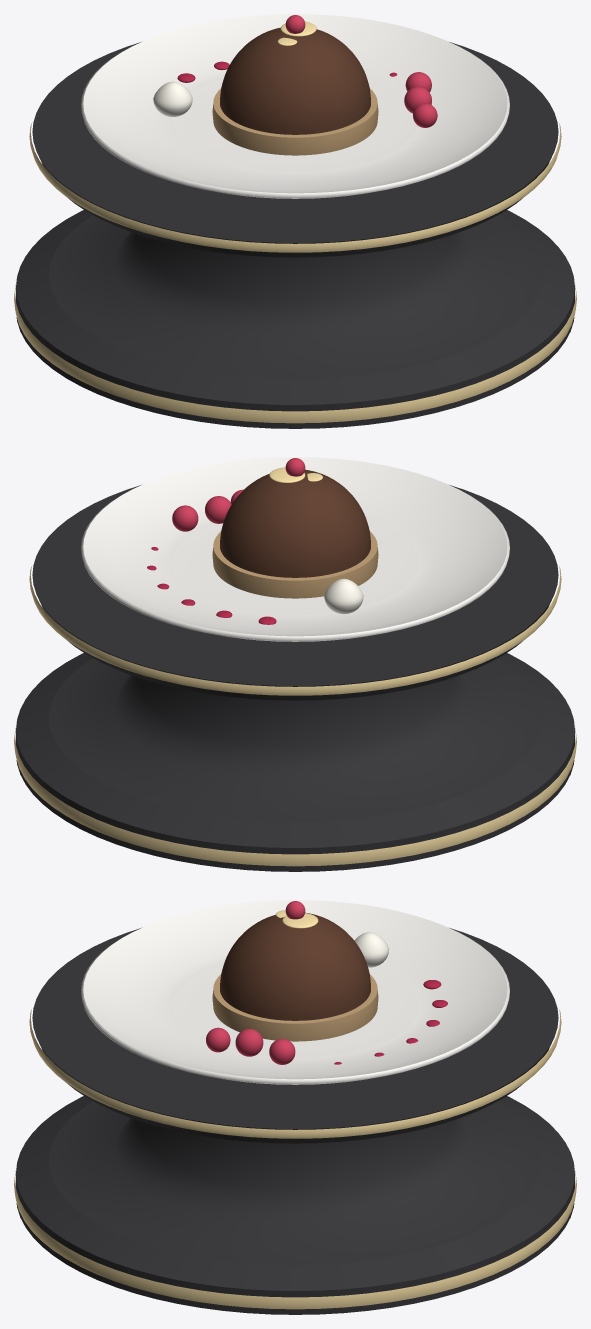
The model's file is atelier-signature.glb.
3 views of the same model, one above another, from view 1: azimuth 30°, elevation 25°; view 2: azimuth 150°, elevation 25°; view 3: azimuth 270°, elevation 25° (orthographic).
Visible parts, largest first — view 1: Pedestal, Plate, Chocolate dome, Pedestal trim, Sable base, Raspberries, Chantilly; view 2: Pedestal, Plate, Chocolate dome, Pedestal trim, Sable base, Raspberries, Chantilly; view 3: Pedestal, Plate, Chocolate dome, Pedestal trim, Sable base, Raspberries, Chantilly.
Part boxes in pixels (box(x1,y1,x2,y2)): Pedestal: box(16, 42, 574, 428); Plate: box(81, 14, 509, 198); Chocolate dome: box(220, 27, 370, 134); Pedestal trim: box(14, 123, 576, 423); Sable base: box(212, 88, 378, 155); Raspberries: box(285, 15, 437, 127); Chantilly: box(153, 81, 192, 116); Pedestal: box(16, 485, 574, 871); Plate: box(81, 457, 509, 641); Chocolate dome: box(220, 469, 370, 577); Pedestal trim: box(14, 566, 576, 866); Sable base: box(212, 531, 378, 598); Raspberries: box(172, 458, 305, 531); Chantilly: box(324, 578, 363, 614); Pedestal: box(16, 928, 574, 1314); Plate: box(81, 900, 509, 1084); Chocolate dome: box(220, 912, 370, 1020); Pedestal trim: box(14, 1009, 576, 1309); Sable base: box(212, 974, 378, 1041); Raspberries: box(206, 901, 305, 1064); Chantilly: box(354, 932, 389, 967).
Size of the model in its own units: 0.3424 by 0.1979 by 0.3424.
